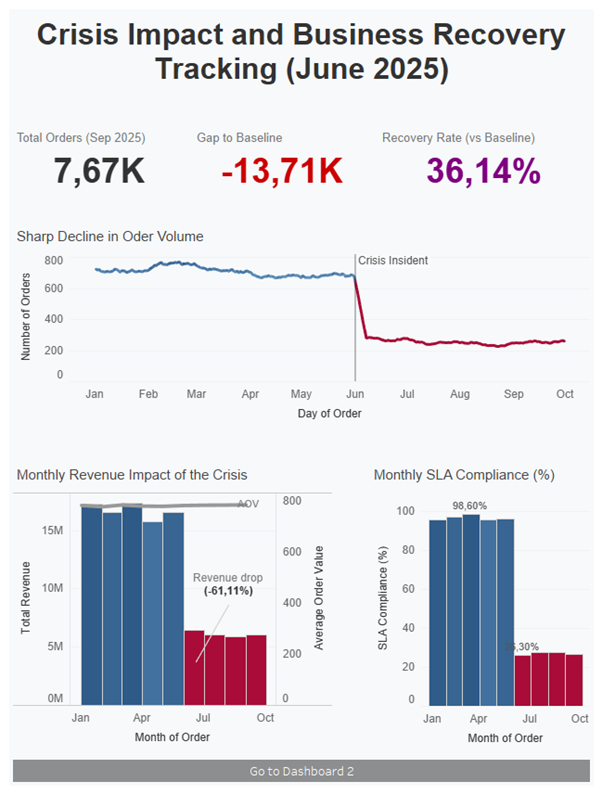

The page's visual inventory and layout, read from the dashboard file:
{"tool":"tableau","page":{"name":"Dashboard 1","canvas":[650,860],"ordinal":0},"visuals":[{"type":"text","box":[10,10,630,96.4]},{"type":"blank","box":[10,106.4,630,32.5]},{"type":"worksheet","title":"KPI-Orders09","mark":"Automatic","box":[10,138.9,193.8,76.9]},{"type":"worksheet","title":"KPI-GapBaseline","mark":"Automatic","box":[203.8,138.9,200,76.9]},{"type":"worksheet","title":"KPI-Recovery","mark":"Automatic","box":[403.7,138.9,236.3,76.9]},{"type":"blank","box":[10,215.8,630,32.7]},{"type":"worksheet","title":"Order","mark":"Automatic","cols":["order_timestamp"],"box":[10,248.4,630,236.4]},{"type":"blank","box":[10,484.8,630,32]},{"type":"worksheet","title":"Revenue","mark":"Bar","rows":["total_amount","Calculation_59672705408176143"],"cols":["order_timestamp"],"box":[10,516.8,353,333.2]},{"type":"blank","box":[363,516.8,32,333.2]},{"type":"worksheet","title":"SLA","mark":"Bar","rows":["Calculation_59672705426223130"],"cols":["order_timestamp"],"box":[395,516.8,245,333.2]}]}

Visuals, with their boxes in screenshot pixels (x1, y1, x2, y2), scaled from the page's 650x860 canvas onto the 602x794 screenshot:
text: x1=9 y1=9 x2=593 y2=98
blank: x1=9 y1=98 x2=593 y2=128
"KPI-Orders09" worksheet: x1=9 y1=128 x2=189 y2=199
"KPI-GapBaseline" worksheet: x1=189 y1=128 x2=374 y2=199
"KPI-Recovery" worksheet: x1=374 y1=128 x2=593 y2=199
blank: x1=9 y1=199 x2=593 y2=229
"Order" worksheet: x1=9 y1=229 x2=593 y2=448
blank: x1=9 y1=448 x2=593 y2=477
"Revenue" worksheet (Bar marks): x1=9 y1=477 x2=336 y2=785
blank: x1=336 y1=477 x2=366 y2=785
"SLA" worksheet (Bar marks): x1=366 y1=477 x2=593 y2=785
